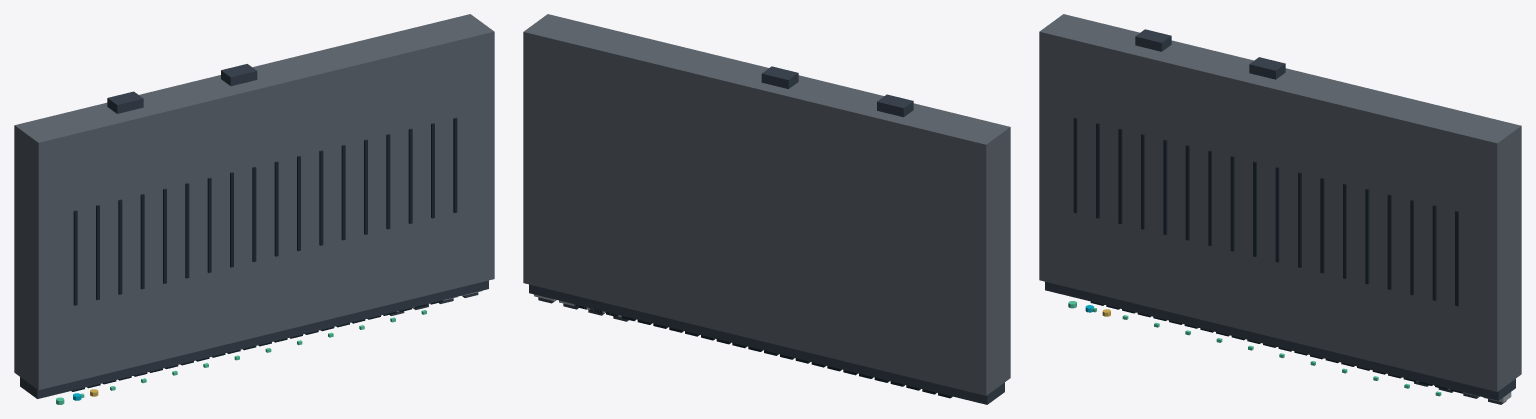
The model's file is switch_24port.glb.
3 views of the same model, side by side, from view 1: azimuth 30°, elevation 25°; view 2: azimuth 150°, elevation 25°; view 3: azimuth 330°, elevation 25° (orthographic).
Parts seen in each view (by area): view 1: 000_switch chassis, 001_front fascia, 091_rear power inlet 1, 092_rear power inlet 2, 070_top ventilation slot 1, 072_top ventilation slot 3, 081_top ventilation slot 12, 073_top ventilation slot 4, 075_top ventilation slot 6, 076_top ventilation slot 7, 079_top ventilation slot 10, 082_top ventilation slot 13 (+4 smaller); view 2: 000_switch chassis, 001_front fascia, 092_rear power inlet 2, 091_rear power inlet 1; view 3: 000_switch chassis, 001_front fascia, 091_rear power inlet 1, 092_rear power inlet 2, 070_top ventilation slot 1, 081_top ventilation slot 12, 083_top ventilation slot 14, 072_top ventilation slot 3, 075_top ventilation slot 6, 077_top ventilation slot 8, 079_top ventilation slot 10, 084_top ventilation slot 15 (+2 smaller).
Part boxes in pixels (box(x1,y1,x2,y2)): 000_switch chassis: box(14, 14, 494, 390); 001_front fascia: box(20, 280, 488, 398); 091_rear power inlet 1: box(107, 91, 143, 113); 092_rear power inlet 2: box(221, 64, 257, 86); 070_top ventilation slot 1: box(73, 210, 77, 305); 072_top ventilation slot 3: box(118, 199, 122, 294); 081_top ventilation slot 12: box(319, 150, 323, 245); 073_top ventilation slot 4: box(140, 194, 144, 289); 075_top ventilation slot 6: box(185, 183, 189, 278); 076_top ventilation slot 7: box(207, 177, 211, 272); 079_top ventilation slot 10: box(274, 161, 278, 256); 082_top ventilation slot 13: box(341, 145, 345, 240); 000_switch chassis: box(523, 14, 1010, 395); 001_front fascia: box(529, 284, 1004, 404); 092_rear power inlet 2: box(761, 66, 798, 88); 091_rear power inlet 1: box(877, 94, 913, 117); 000_switch chassis: box(1039, 14, 1521, 391); 001_front fascia: box(1045, 281, 1515, 400); 091_rear power inlet 1: box(1135, 29, 1171, 51); 092_rear power inlet 2: box(1249, 57, 1285, 79); 070_top ventilation slot 1: box(1073, 117, 1077, 213); 081_top ventilation slot 12: box(1320, 177, 1324, 273); 083_top ventilation slot 14: box(1365, 188, 1369, 284); 072_top ventilation slot 3: box(1118, 128, 1122, 223); 075_top ventilation slot 6: box(1185, 145, 1189, 240); 077_top ventilation slot 8: box(1230, 156, 1234, 251); 079_top ventilation slot 10: box(1275, 166, 1279, 262); 084_top ventilation slot 15: box(1387, 194, 1391, 289).
Bounding box in the file's own units: 0.482 × 0.2845 × 0.046.
